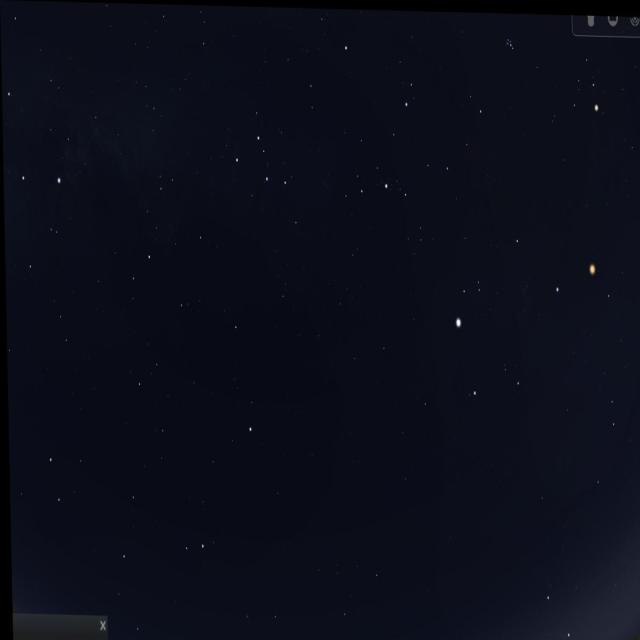cassiopeia: (225, 111, 308, 268)
pleiades: (503, 16, 518, 70)
